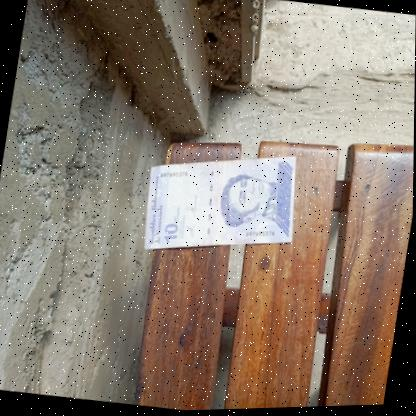ten-front-vef: (139, 138, 305, 271)
